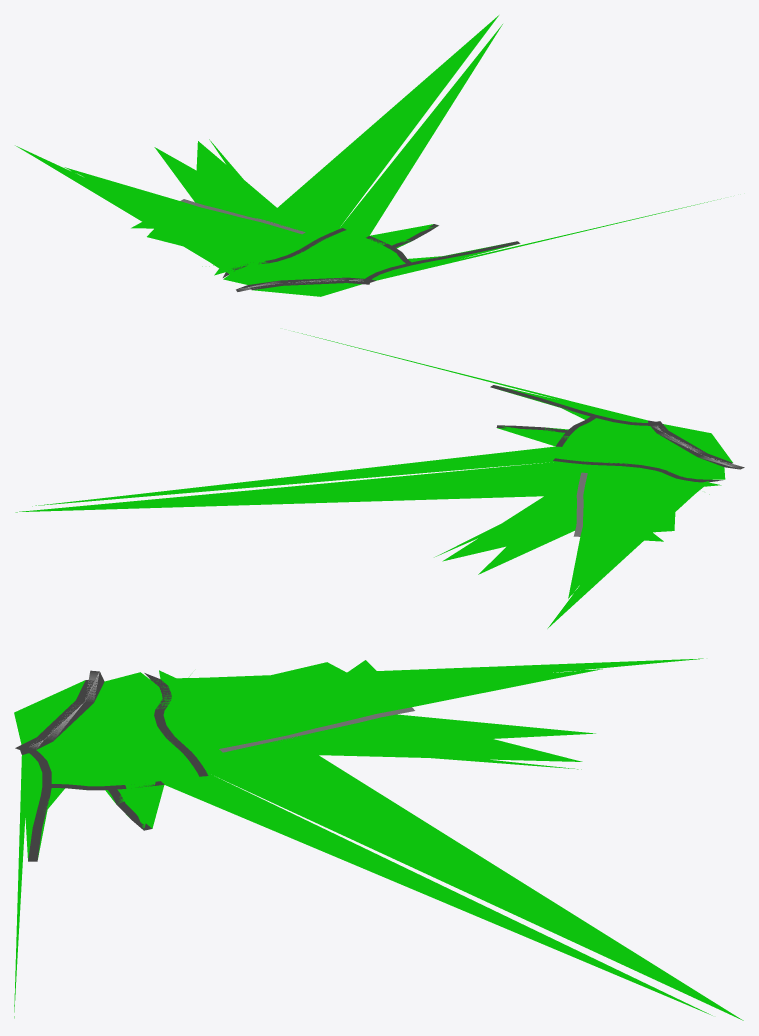
3 views of the same model, one above another, from view 1: azimuth 30°, elevation 25°; view 2: azimuth 150°, elevation 25°; view 3: azimuth 270°, elevation 25° (orthographic). The views are drawn at different scales.
Bounding box in the file's own units: 317 × 0.001 × 270.
